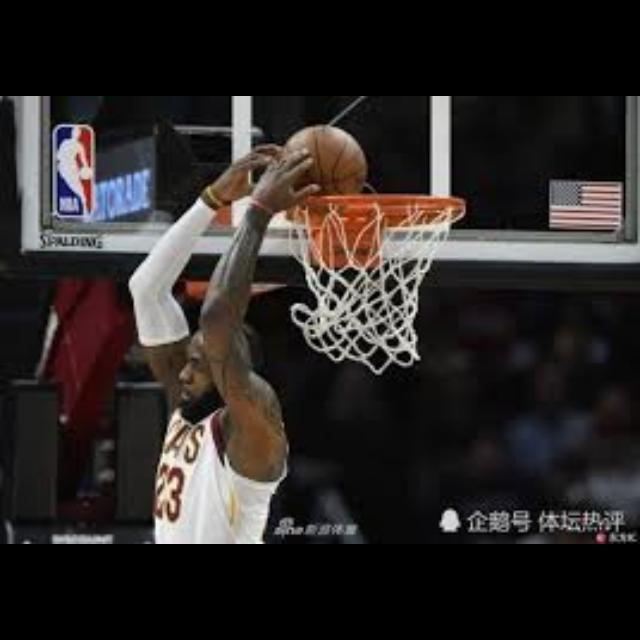basketball: (281, 125, 367, 212)
rim: (292, 195, 466, 378)
